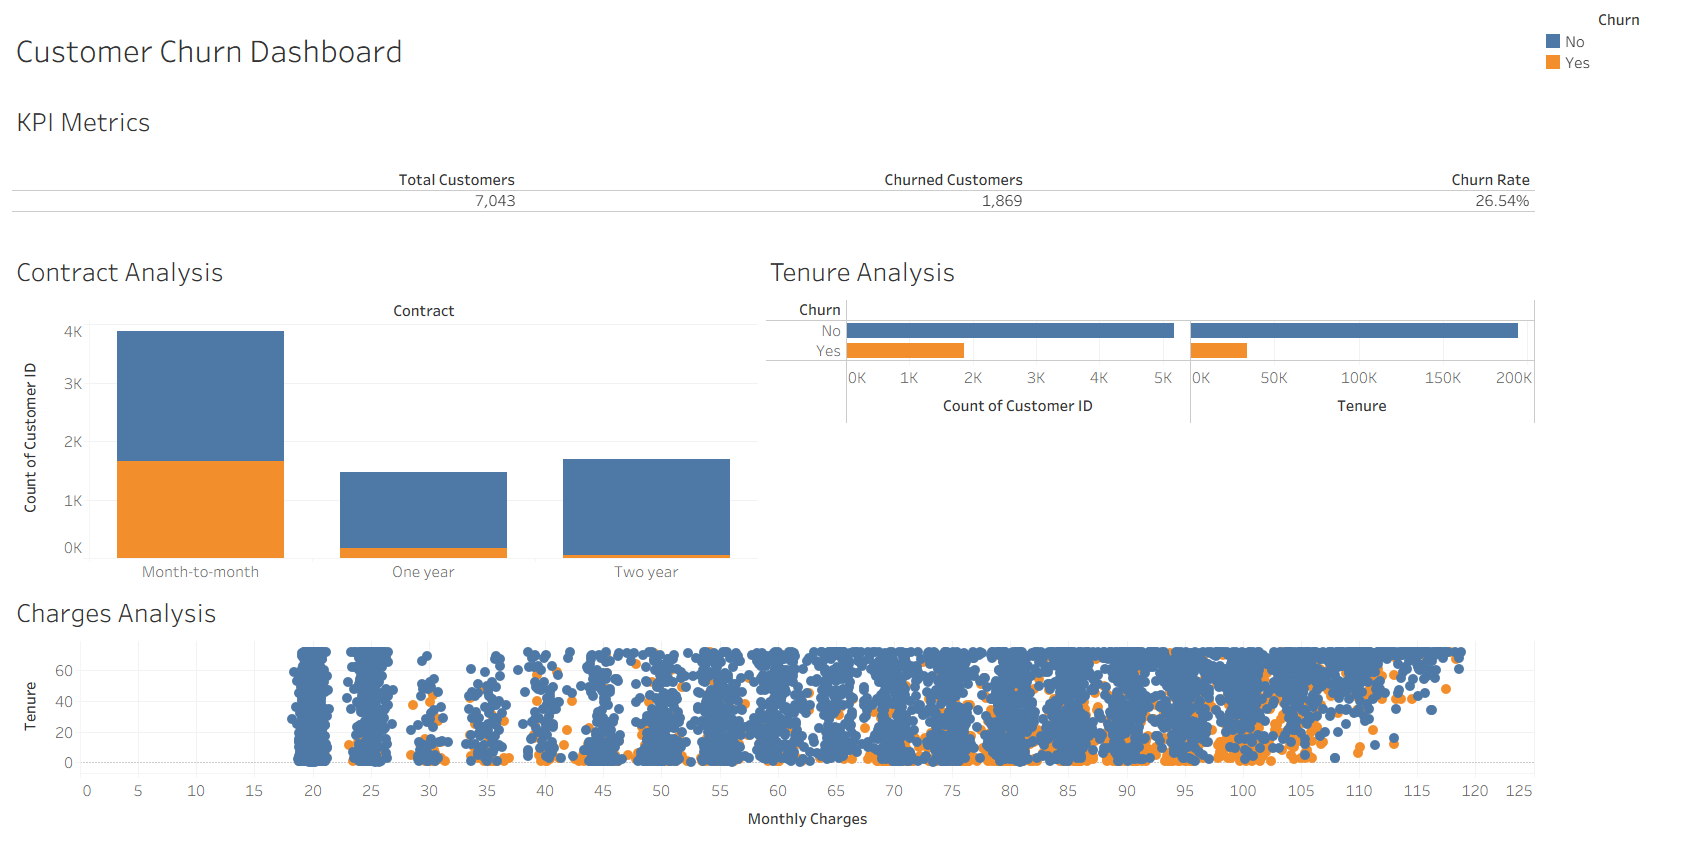

Layout of this report page (visuals, bound fields, positions):
{"tool":"tableau","page":{"name":"Dashboard 1","canvas":[1000,1000],"units":"permille","ordinal":0},"visuals":[{"type":"title","box":[4.7,9.4,896.9,106.9]},{"type":"legend","title":"Sheet 2","param":"[federated.167wr1y14uytom1fly81u0czawuc].[none:Churn:nk]","box":[901.6,9.4,93.7,84.6]},{"type":"worksheet","title":"Sheet 1","mark":"Automatic","box":[4.7,116.3,896.9,141]},{"type":"worksheet","title":"Sheet 2","mark":"Automatic","rows":["customerID"],"cols":["Contract"],"box":[4.7,292.6,441.7,400.7]},{"type":"worksheet","title":"Sheet 3","mark":"Automatic","rows":["Churn"],"cols":["customerID","tenure"],"box":[446.4,292.6,455.2,400.7]},{"type":"worksheet","title":"Sheet 4","mark":"Circle","rows":["tenure"],"cols":["MonthlyCharges"],"box":[4.7,693.3,896.9,297.3]}]}

Visuals, with their boxes on the dashboard's canvas, which has no fixed pixel size, in thousandths of its width and height (x1, y1, x2, y2). These are canvas units, not pixel positions in the 1707x842 screenshot, which may show the page scaled, cropped or inside an application window:
title: BBox(5, 9, 902, 116)
"Sheet 2" legend: BBox(902, 9, 995, 94)
"Sheet 1" worksheet: BBox(5, 116, 902, 257)
"Sheet 2" worksheet: BBox(5, 293, 446, 693)
"Sheet 3" worksheet: BBox(446, 293, 902, 693)
"Sheet 4" worksheet (Circle marks): BBox(5, 693, 902, 991)
